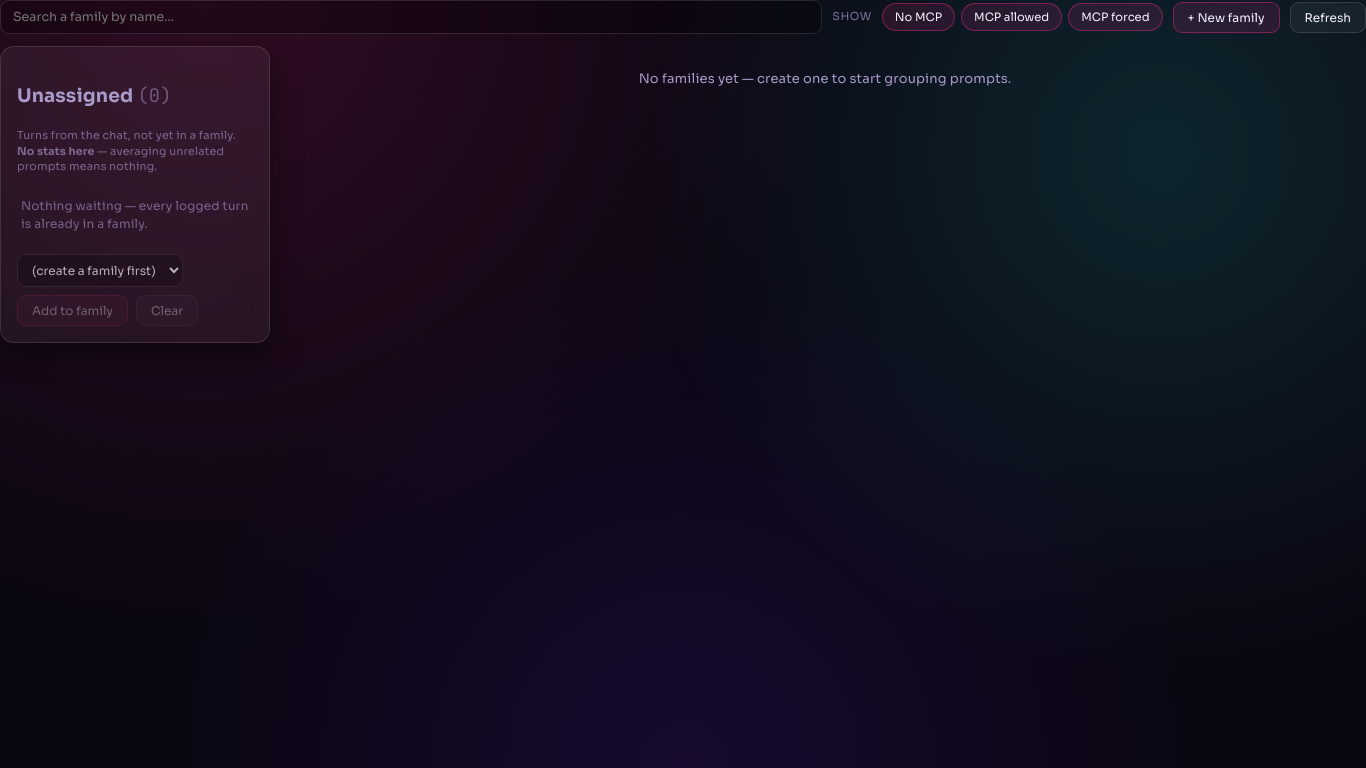
Test case: FamiliesTab › creating a family through the modal posts it and shows it in the list
The image size is (1366, 768).
Expected: the text "No families yet — create one to start grouping prompts." is shown, top-left (639, 70), bottom-right (1011, 87)
Click the button "+ New family" at x=1226, y=17, box top-left (1173, 2), bottom-right (1280, 32)
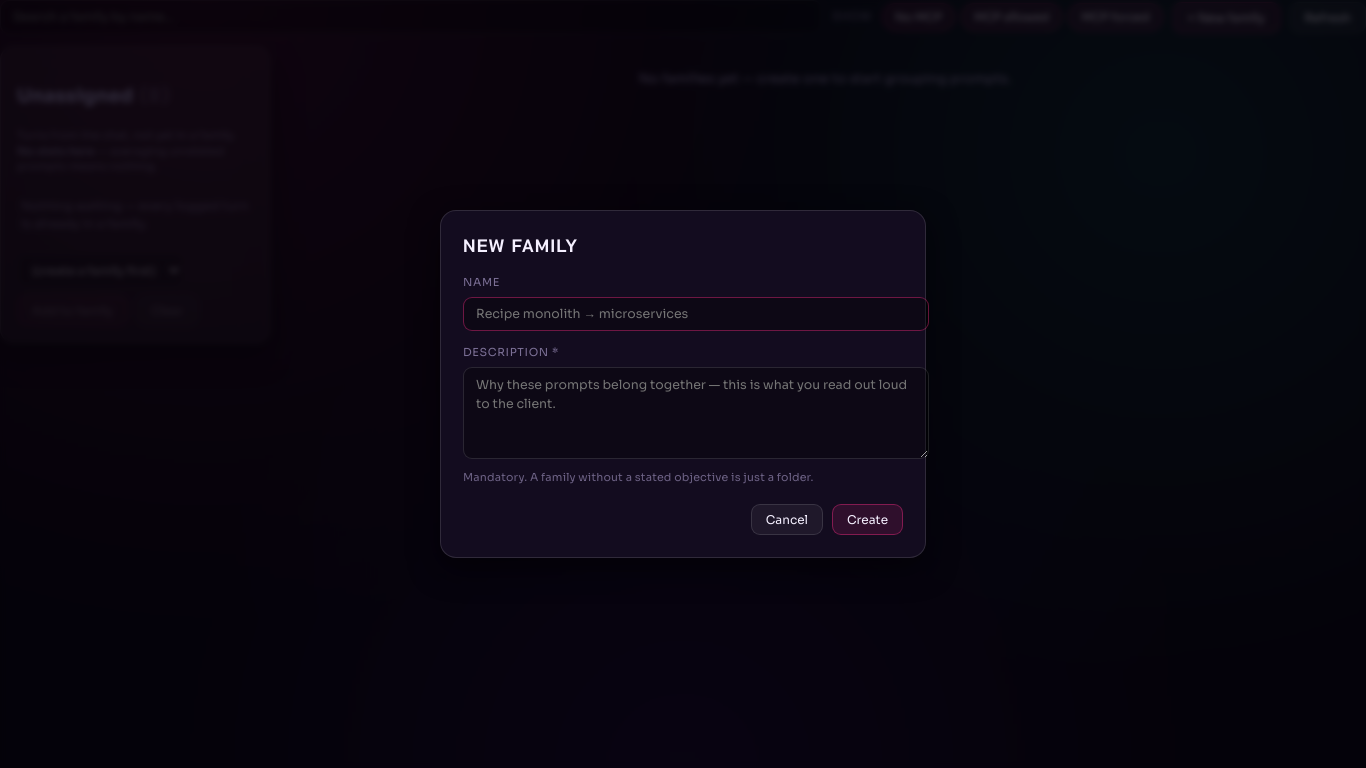
Type "Document inventory" into the field labelled "Name" at x=696, y=314, box top-left (463, 297), bottom-right (929, 331)
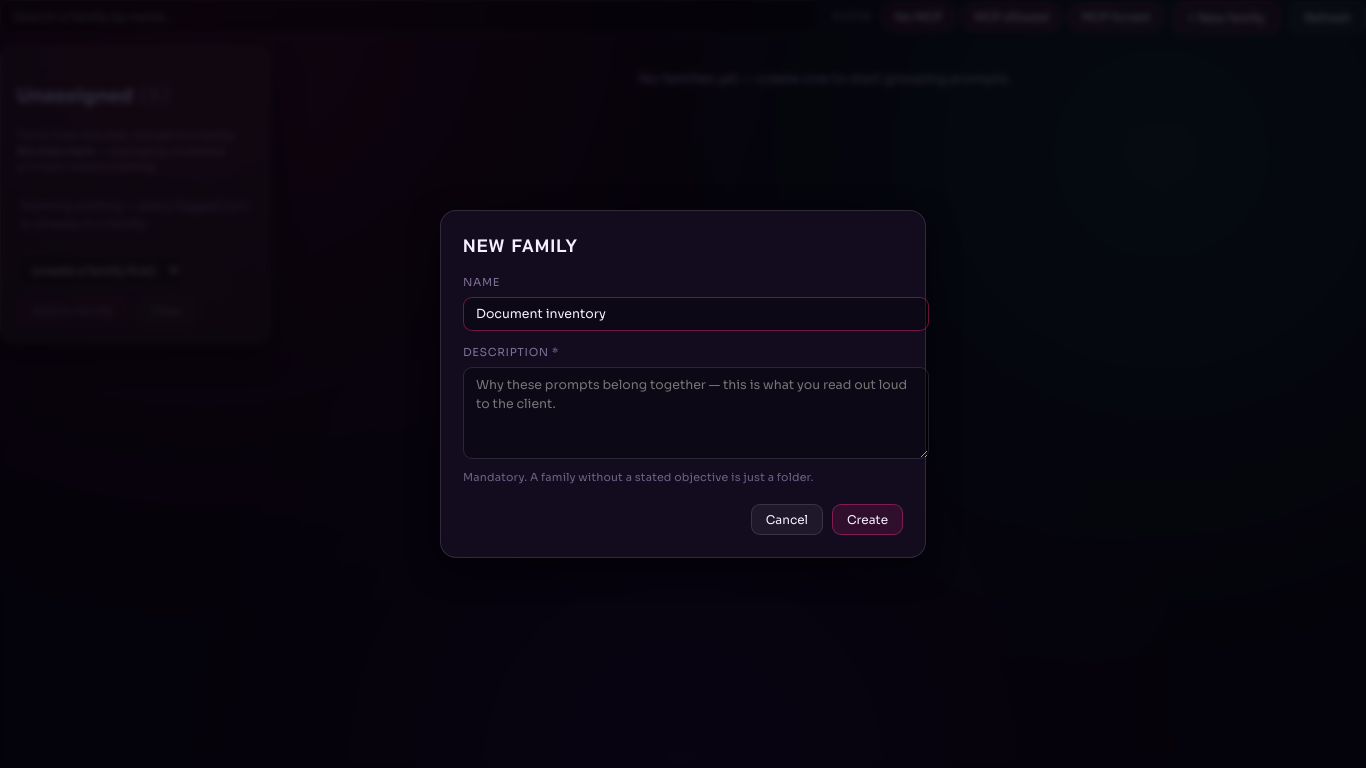
Type "Questions about the document base." into the text box labelled "Description *" at x=696, y=413, box top-left (463, 367), bottom-right (929, 459)
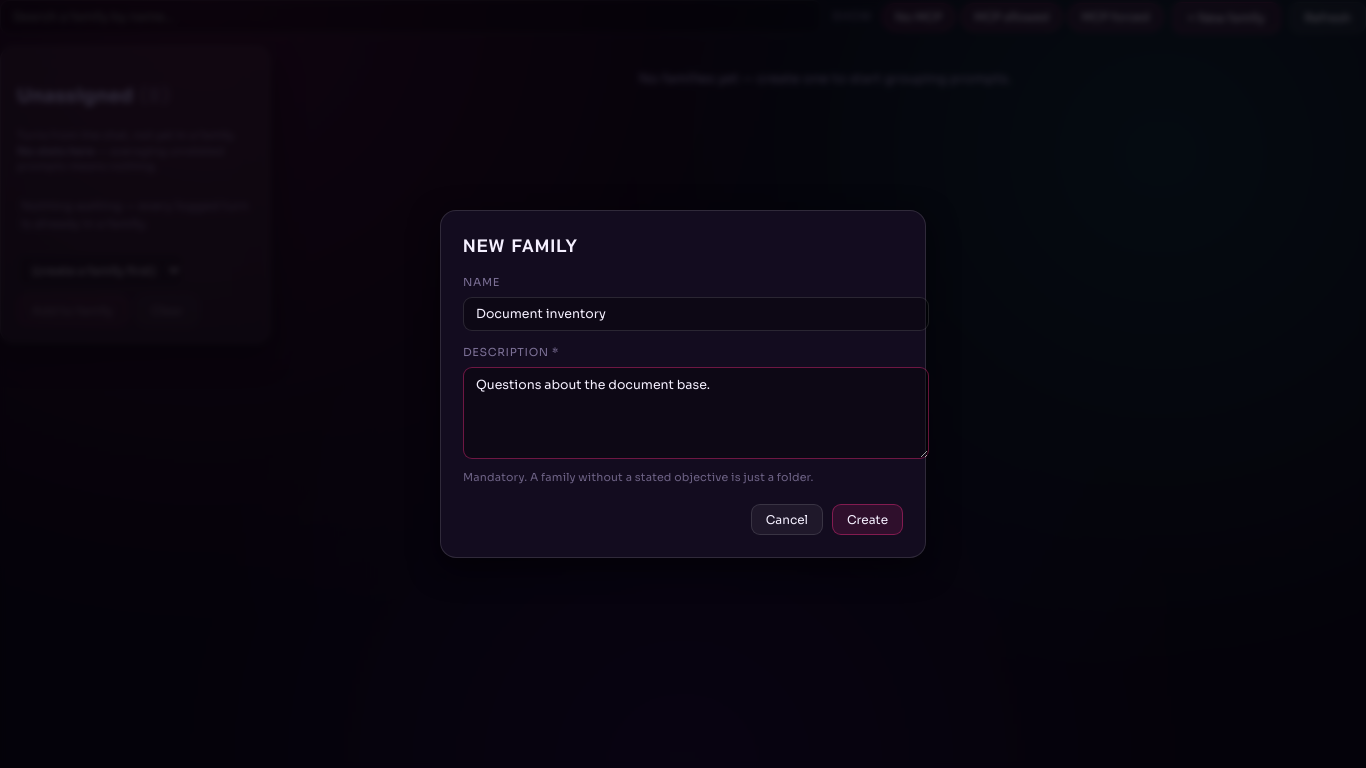
Click the button "Create" at x=868, y=520, box top-left (832, 504), bottom-right (903, 535)
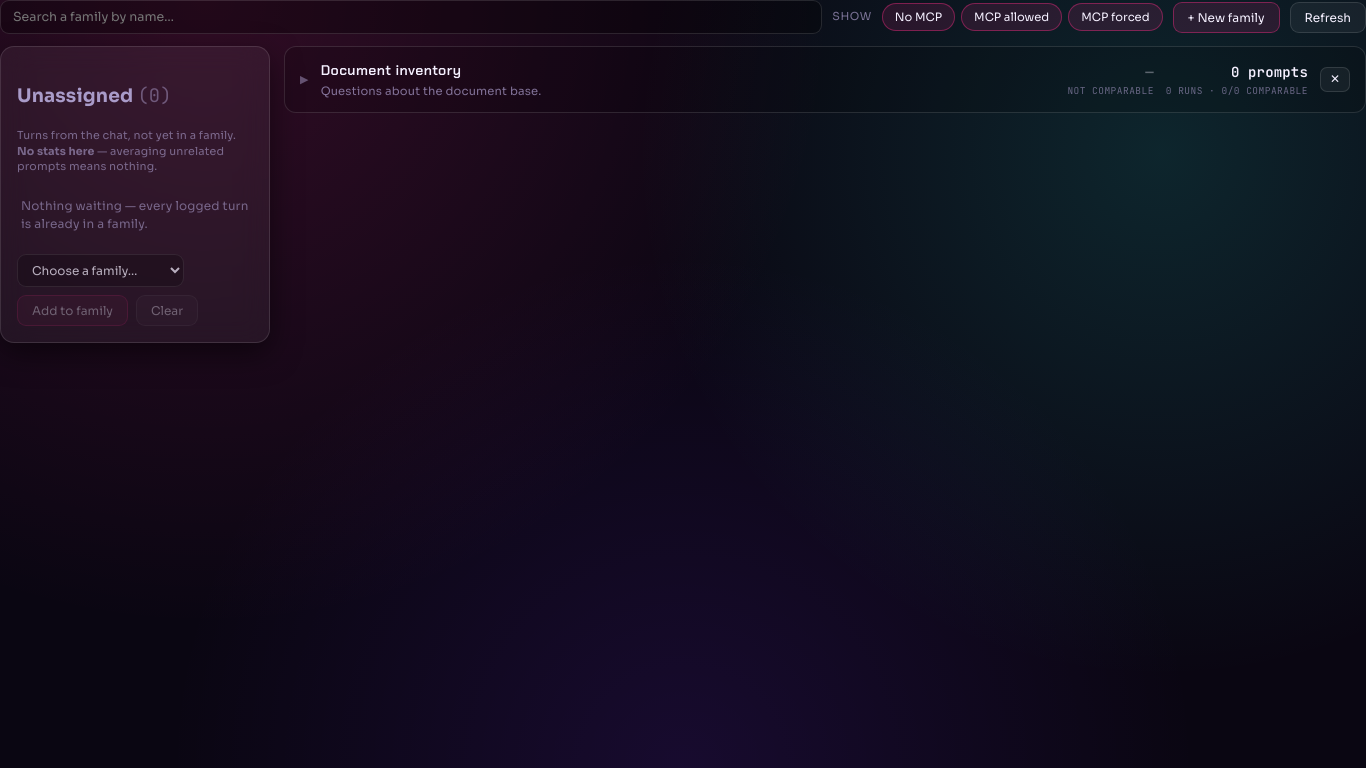
Expected: the text "Document inventory" is shown, top-left (321, 61), bottom-right (461, 79)
